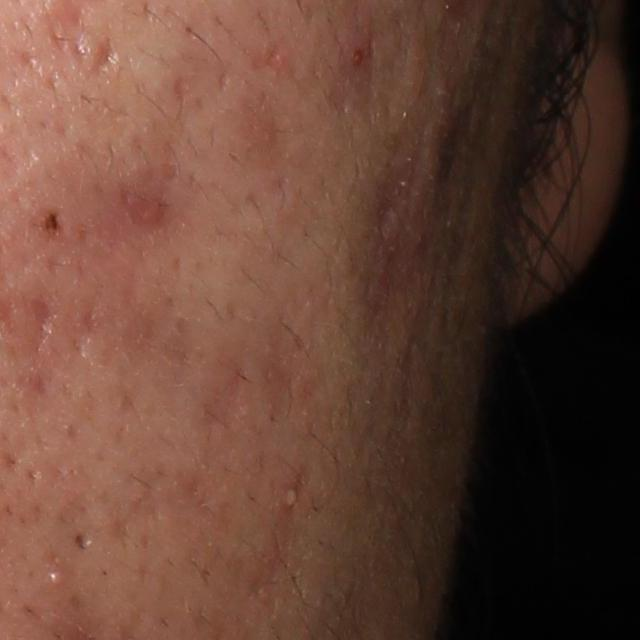atrophic_scar: (374, 40, 445, 266), (109, 186, 188, 245), (202, 369, 243, 431), (28, 294, 53, 351), (74, 532, 89, 554)
comedo: (49, 566, 67, 594)
nevus: (31, 206, 67, 238)
papule: (342, 36, 377, 70)
